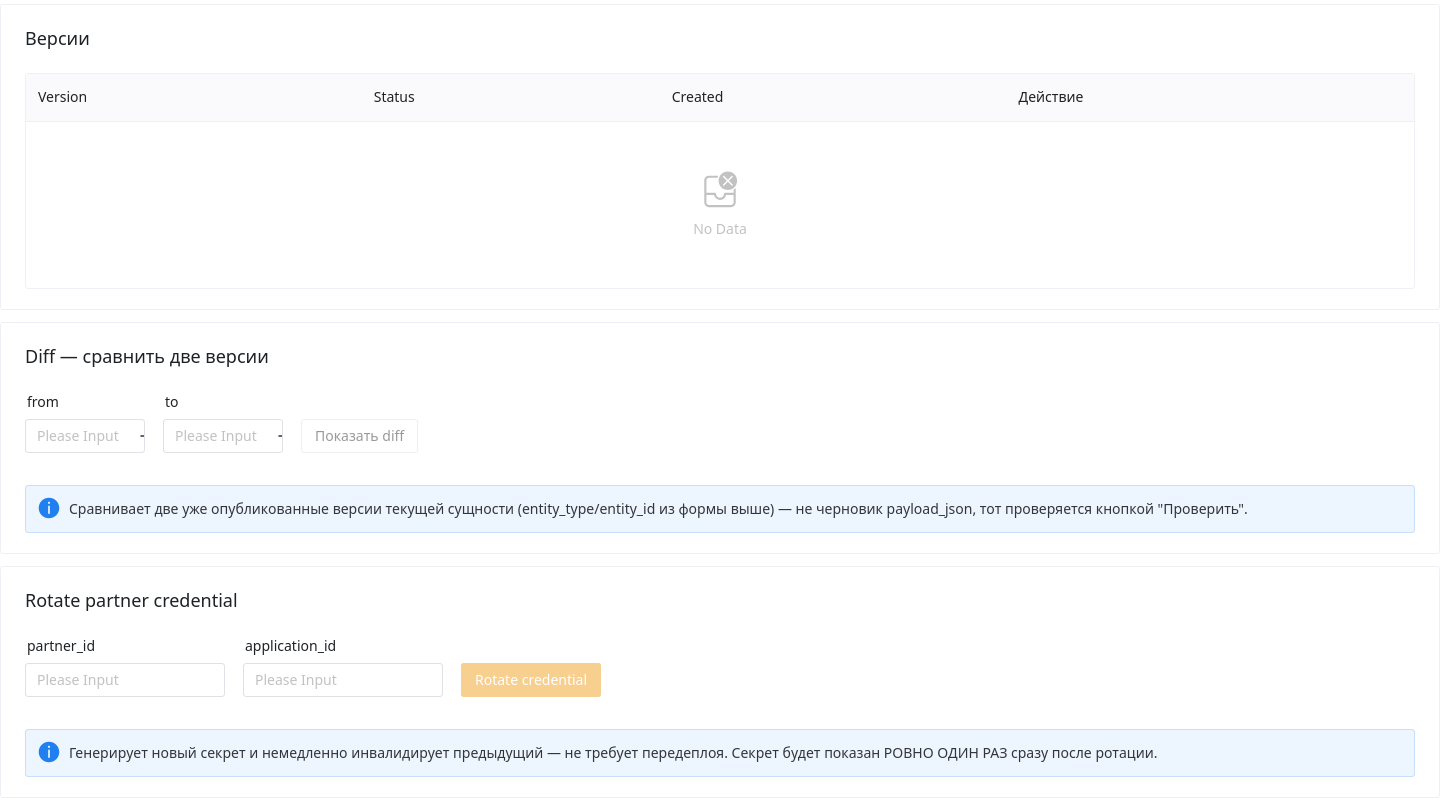
Scenario: ConfigView — Rotate partner credential › закрытие show-once модалки не оставляет plaintext доступным где-либо ещё
This screenshot has width=1440, height=804.
(page scrolled)
Type "click_uz" into the field below "partner_id" at (125, 680), box [37, 663, 213, 697]
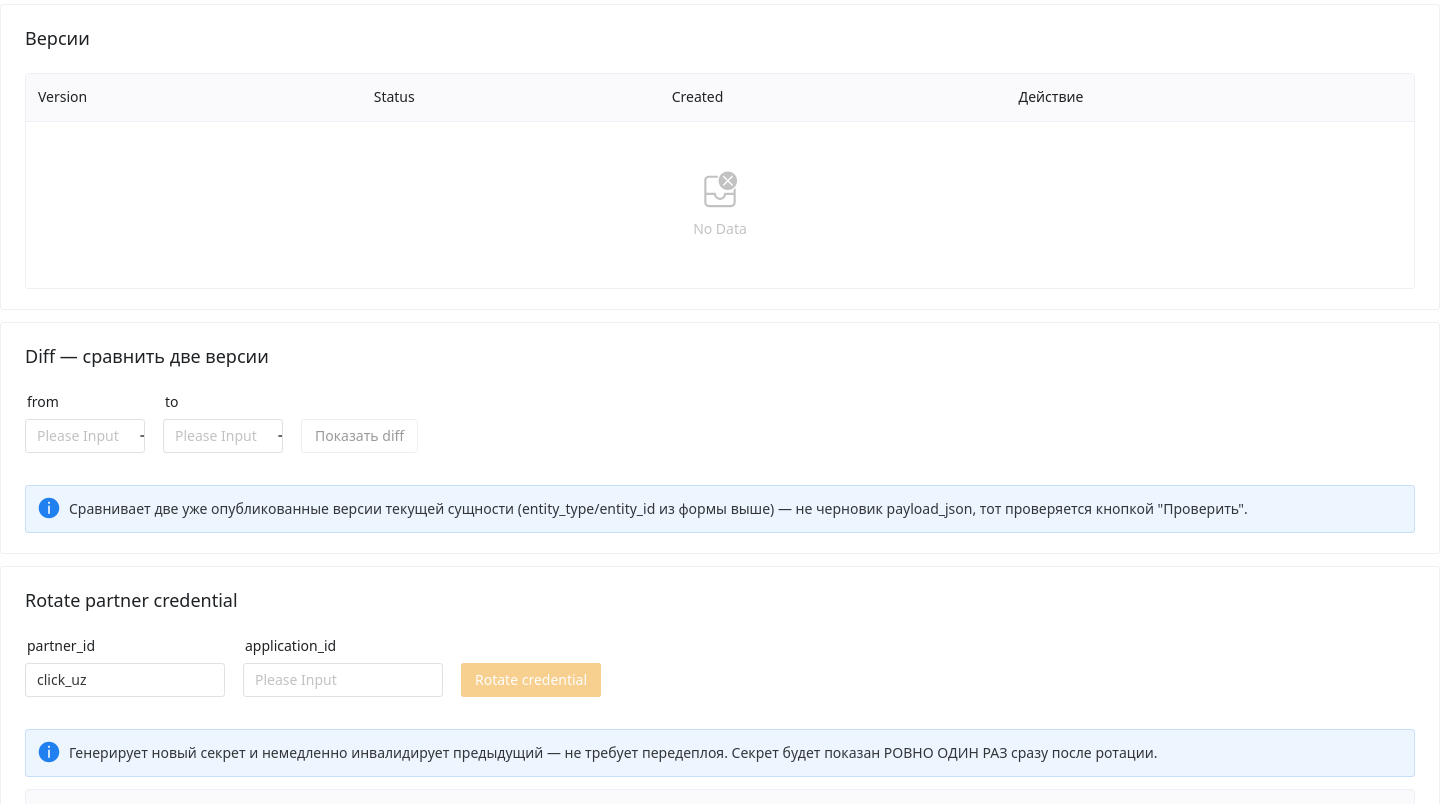
Type "click_uz_main" into the field below "partner_id" at (343, 680), box [255, 663, 431, 697]
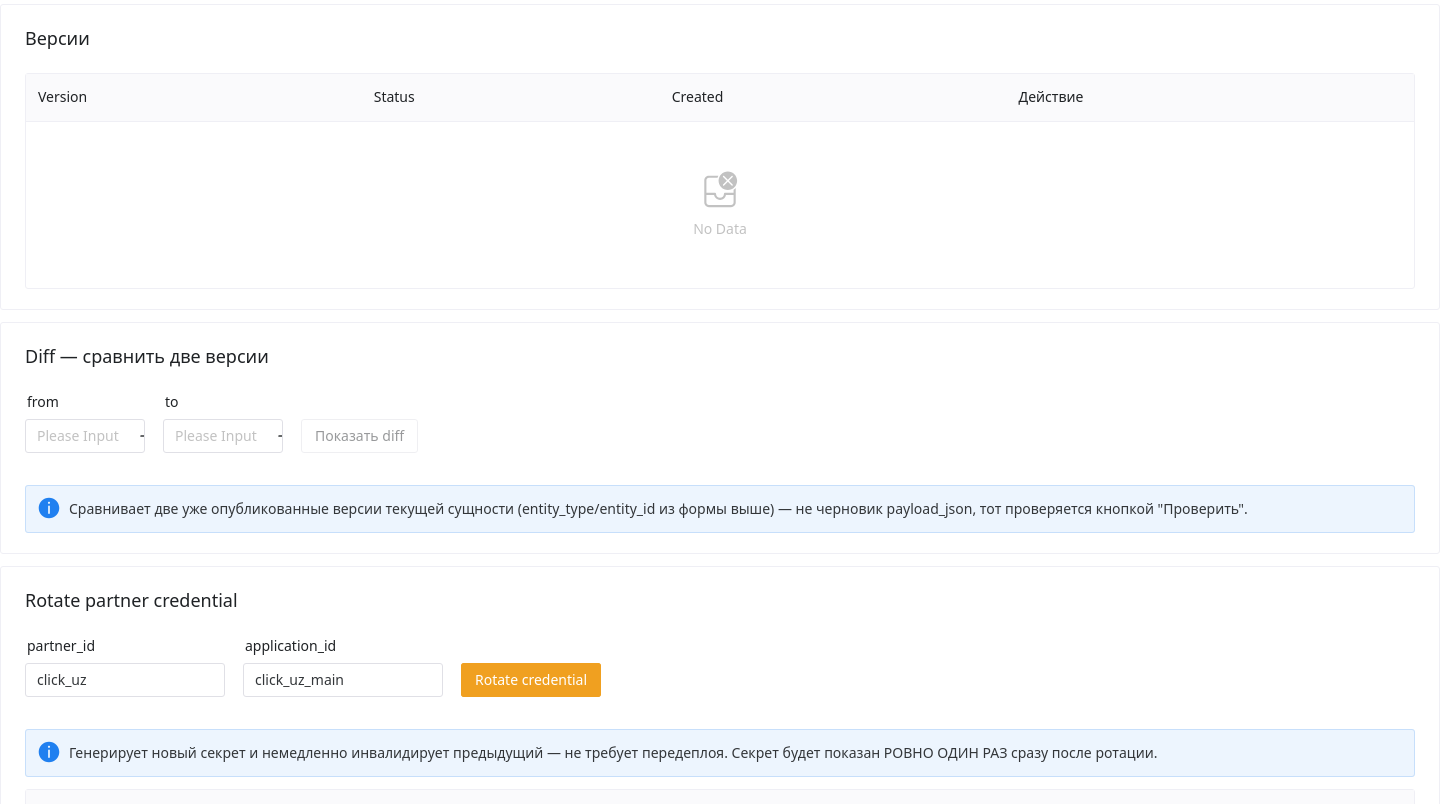
Click the button "Rotate credential" at (531, 680), box [461, 663, 601, 697]
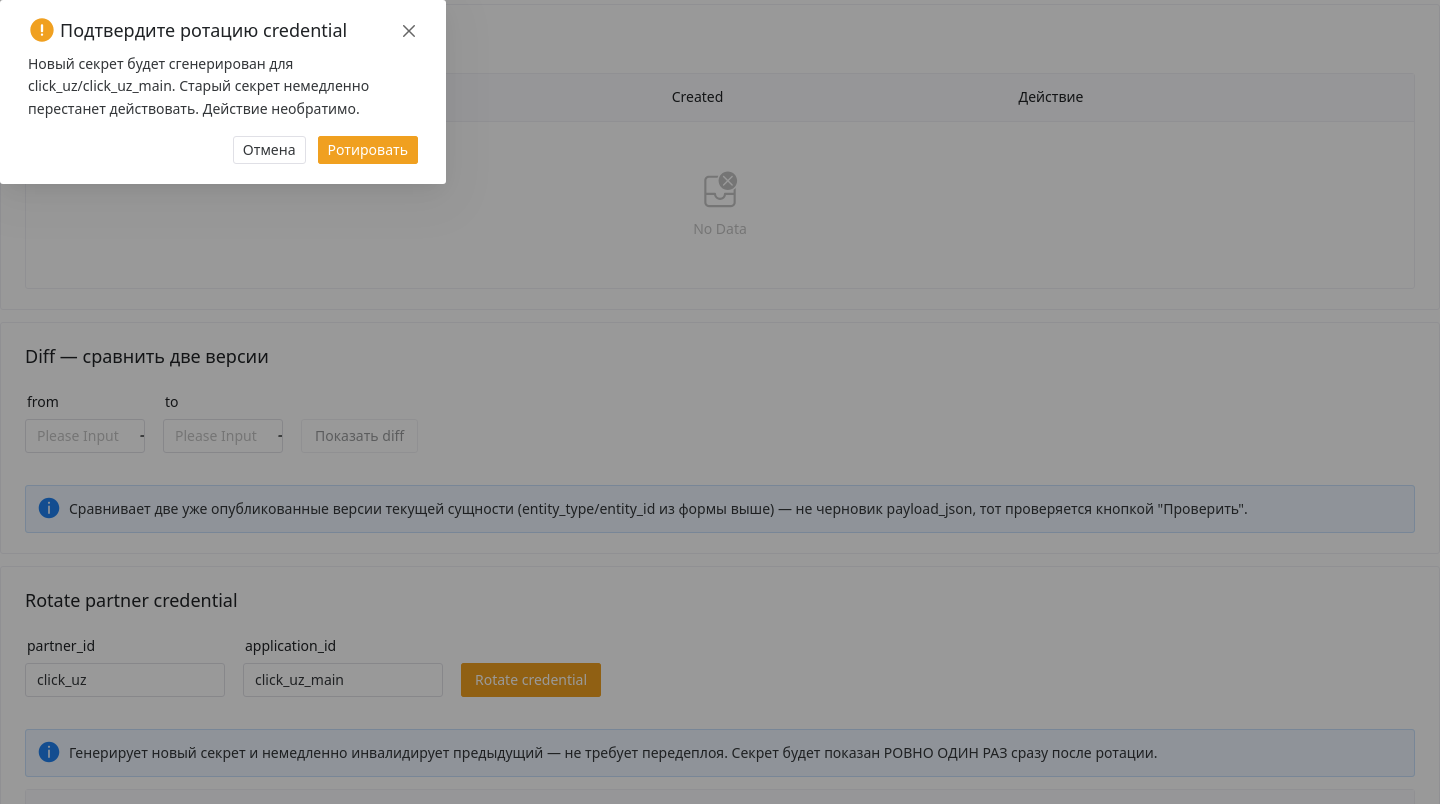
Click the button "Ротировать" at (368, 150), box [318, 136, 418, 164]
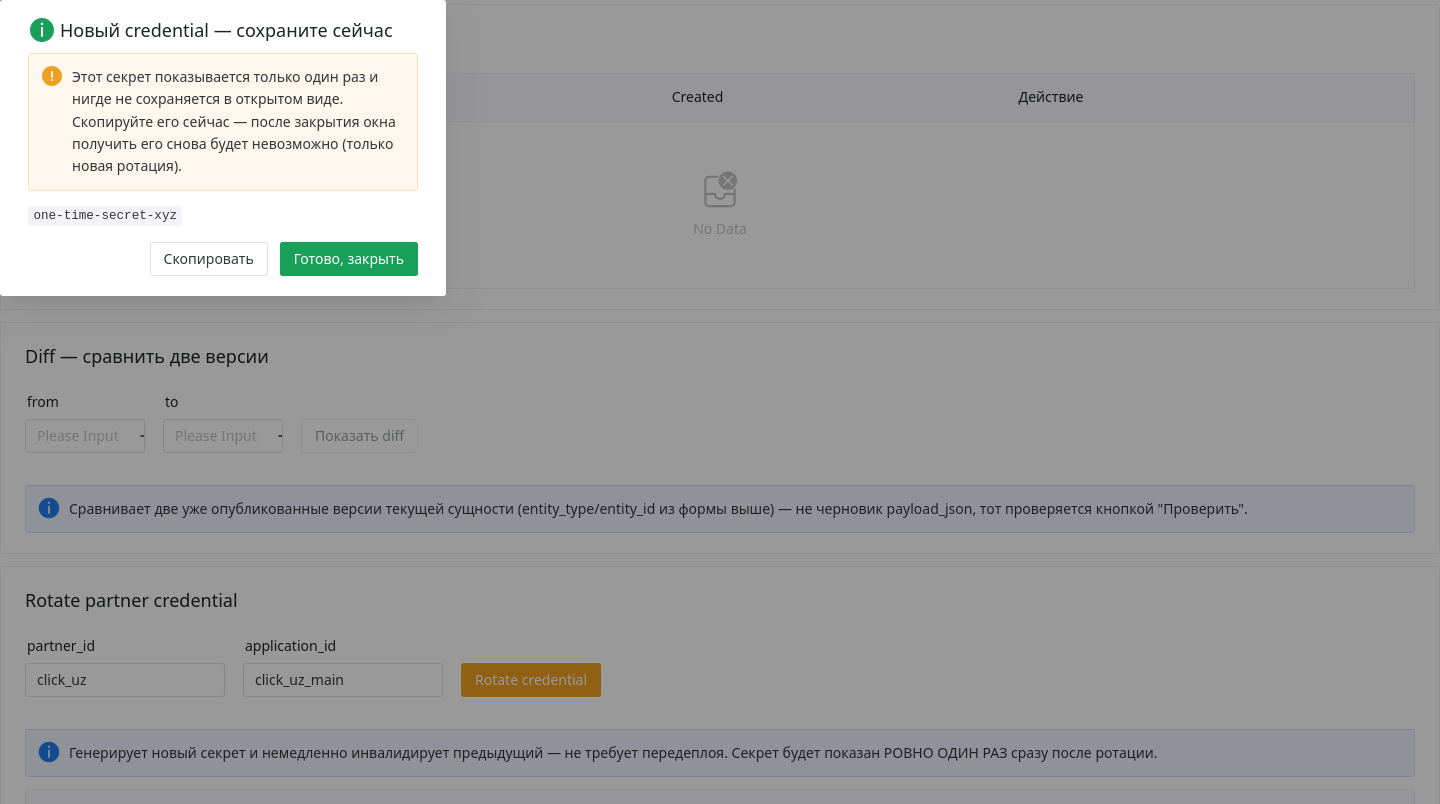
Now the text "one-time-secret-xyz" is shown, box [28, 206, 182, 226]
Click the button "Готово, закрыть" at (349, 259), box [280, 242, 418, 276]
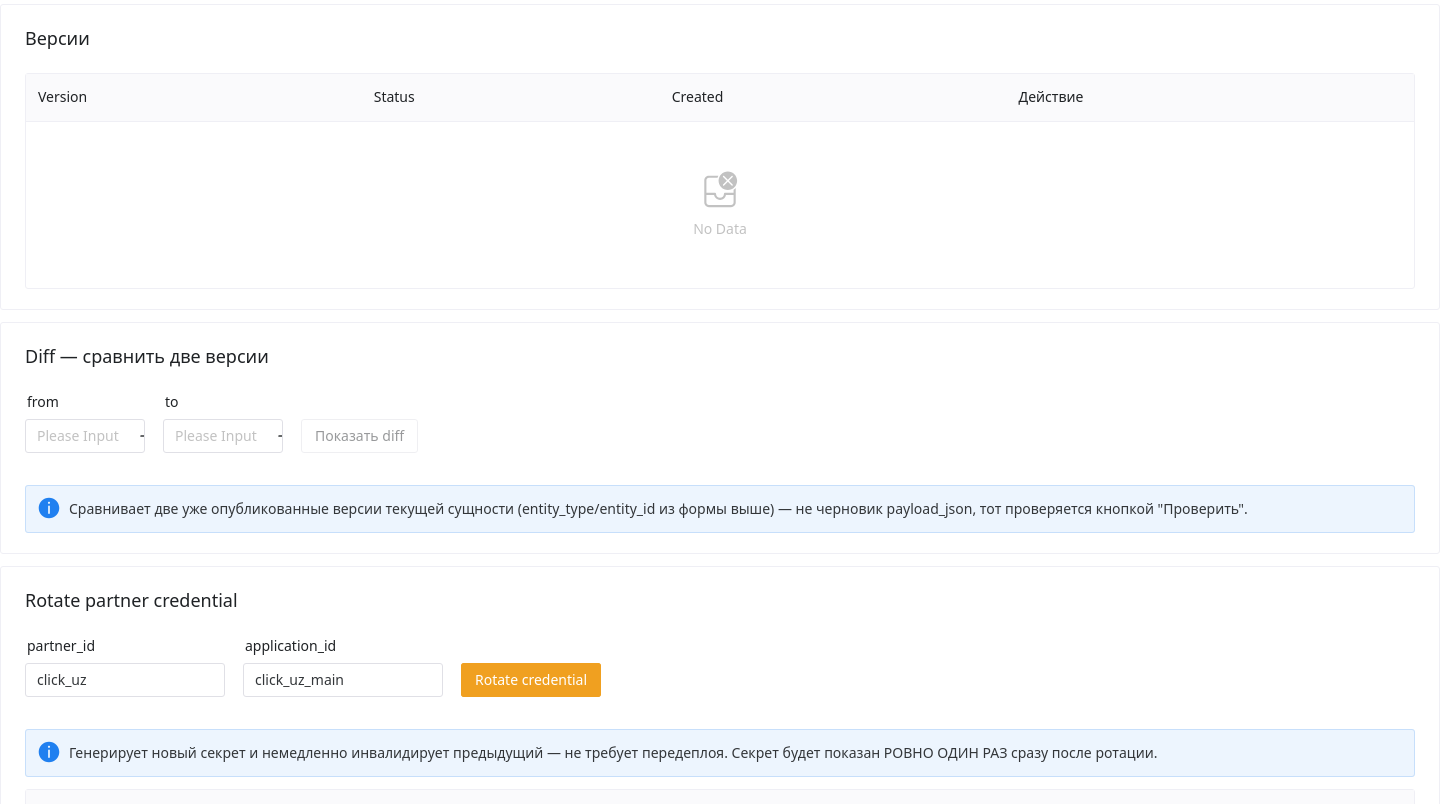
Now the text "one-time-secret-xyz" is gone
